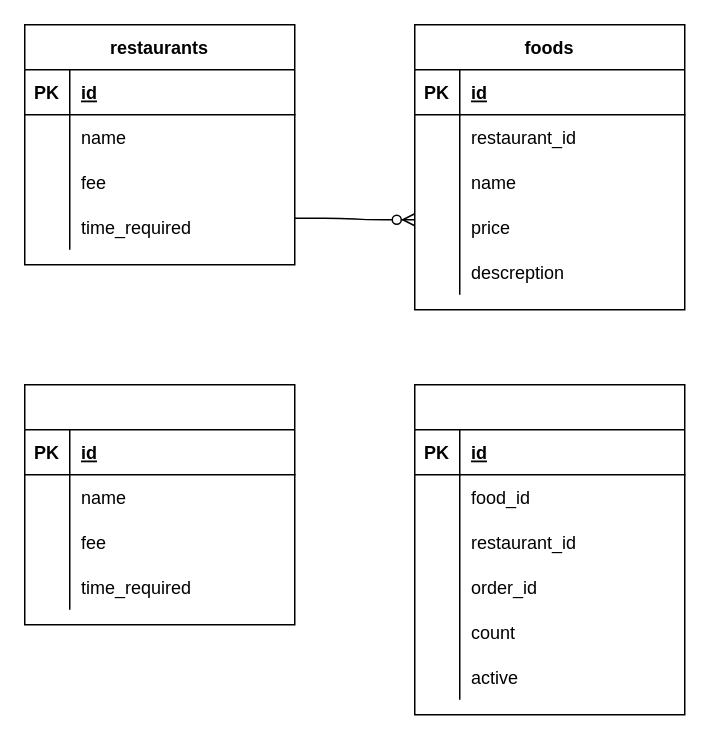
This 710x740 diagram has some shape labels left out. Each missing label, with the box of its shape:
line_foods: (413, 383, 685, 715)
orders: (23, 383, 295, 625)
